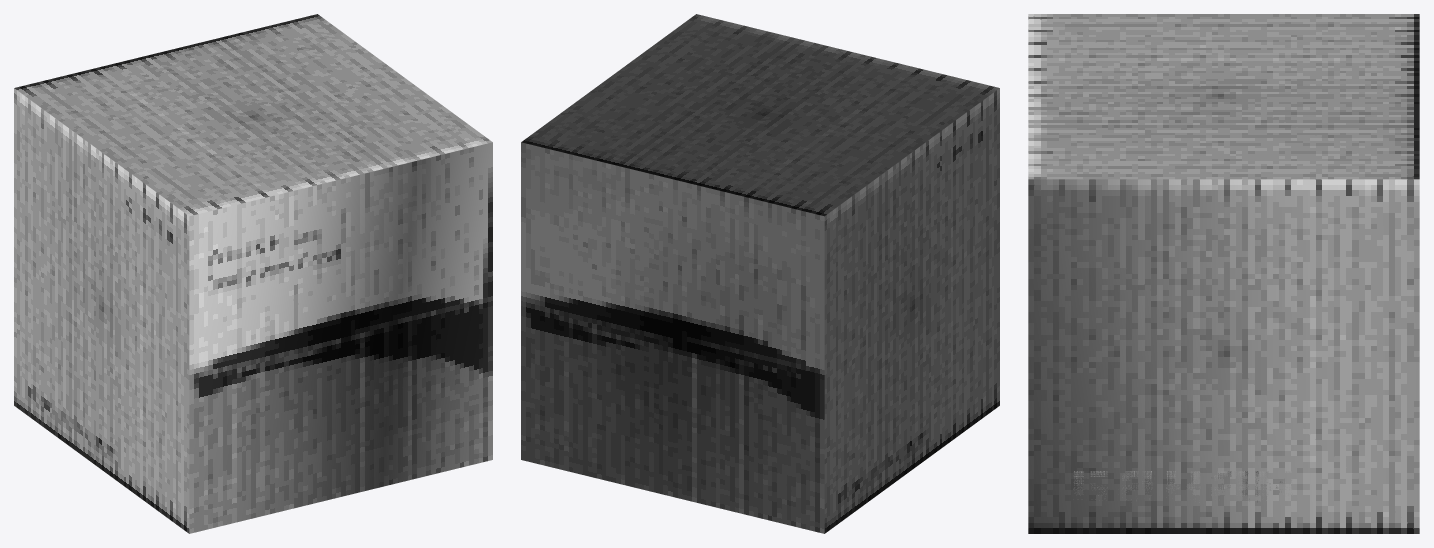
File: Pcard_box3Z.obj
3 views of the same model, side by side, from view 1: azimuth 30°, elevation 25°; view 2: azimuth 150°, elevation 25°; view 3: azimuth 270°, elevation 25° (orthographic). The views are drawn at different scales.
Bounding box in the file's own units: 840 × 840 × 840.
5 materials, 5 textured.
